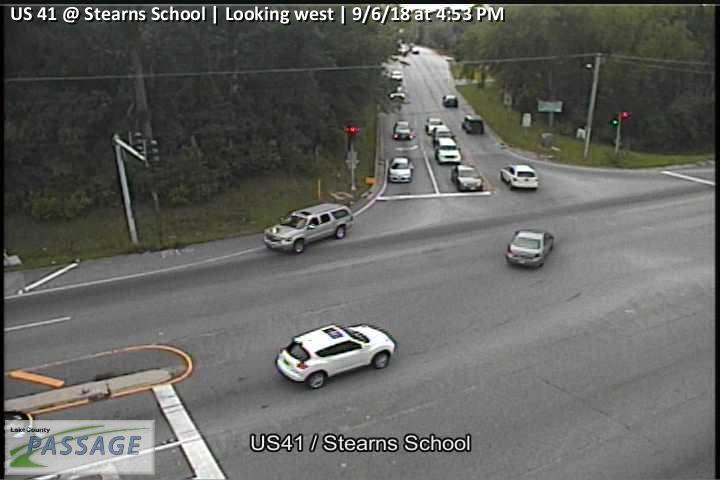SUV: (273, 321, 399, 390), (262, 200, 356, 254), (500, 163, 539, 190), (435, 135, 463, 164), (463, 114, 486, 136), (391, 119, 413, 140), (442, 93, 459, 107), (390, 69, 404, 81)
Sedan: (505, 227, 556, 270), (450, 162, 484, 191), (387, 155, 414, 183), (425, 115, 448, 136)
